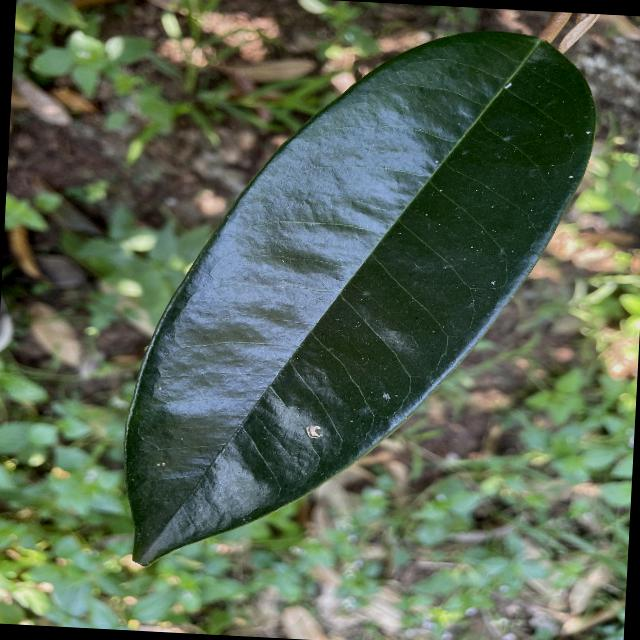No Disease: (108, 3, 606, 597)
